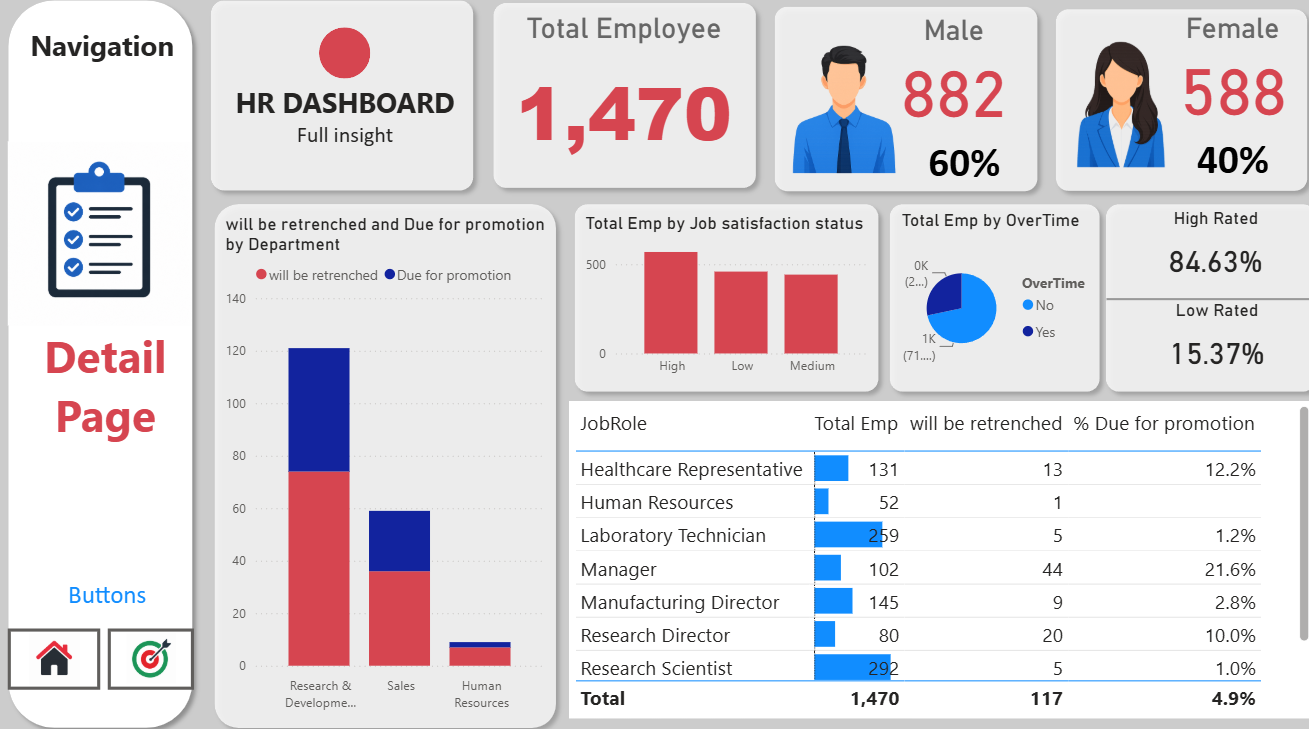

This screenshot's page, from the dashboard's own definition file:
{"tool":"powerbi","page":{"name":"Detail","canvas":[1280,720],"ordinal":1},"visuals":[{"type":"shape","box":[1011.3,8.2,260.7,193.5],"z":0},{"type":"shape","box":[739.6,5.5,271.7,196.2],"z":1000},{"type":"shape","box":[0,0,195.6,720.2],"z":2000},{"type":"shape","box":[195.6,0,271.2,201.5],"z":3000},{"type":"textbox","box":[213.4,84.4,240.7,54.6],"z":4000},{"type":"textbox","box":[213.4,120.3,240.7,39.7],"z":5000},{"type":"shape","box":[308.9,34.7,49.6,49.6],"z":6000},{"type":"card","title":"Male","fields":{"Values":["All Measures.Male"]},"box":[832.9,22,178.4,108.4],"z":7000},{"type":"card","fields":{"Values":["All Measures.% Female"]},"box":[1117,118,148.2,83.7],"z":8000},{"type":"shape","box":[468.1,2.4,271.4,196.6],"z":9000},{"type":"card","title":"Total Employee","fields":{"Values":["All Measures.Total Emp"]},"box":[477.5,19.2,251.1,157.8],"z":10000},{"type":"card","title":"Female","fields":{"Values":["All Measures.Female"]},"box":[1101.9,19.2,178.4,108.4],"z":11000},{"type":"card","fields":{"Values":["All Measures.% Male"]},"box":[858,121.1,148.2,83.7],"z":12000},{"type":"image","box":[974.8,0,216,202.7],"z":13000},{"type":"image","box":[709.4,0,212.3,230.4],"z":14000},{"type":"shape","box":[199.1,196.6,347.5,523.6],"z":15000},{"type":"columnChart","fields":{"Category":["HR Analytics Data.Department"],"Y":["All Measures.will be retrenched","All Measures.Due for promotion"]},"box":[213.5,214.7,319.7,487.4],"z":16000},{"type":"shape","box":[546.5,196.6,311.3,199.1],"z":17000},{"type":"shape","box":[850.5,196.6,220.8,199.1],"z":18000},{"type":"shape","box":[1059.3,196.6,220.8,199.1],"z":19000},{"type":"shape","box":[1068.9,135.1,200.3,324.5],"z":20000},{"type":"columnChart","fields":{"Y":["All Measures.Total Emp"],"Category":["HR Analytics Data.Job satisfaction status"]},"box":[561,213.5,283.5,166.5],"z":21000},{"type":"pieChart","fields":{"Category":["HR Analytics Data.OverTime"],"Y":["All Measures.Total Emp"]},"box":[866.2,211.1,193,171.3],"z":22000},{"type":"tableEx","fields":{"Values":["HR Analytics Data.JobRole","All Measures.Total Emp","All Measures.will be retrenched","All Measures.% Due for promotion"]},"box":[550.1,395.7,719,306.4],"z":23000},{"type":"card","title":"High Rated","fields":{"Values":["All Measures.%High Rated"]},"box":[1083.4,208.7,182.2,82],"z":24000},{"type":"card","title":"Low Rated","fields":{"Values":["All Measures.%Low Rated"]},"box":[1090.6,298,170.1,82],"z":25000},{"type":"image","box":[20.5,620.1,65.1,49.5],"z":25004},{"type":"image","box":[108.6,620.1,77.2,48.3],"z":25005},{"type":"actionButton","box":[8.4,615.3,89.3,59.1],"z":25006},{"type":"actionButton","box":[105,615.3,83.2,59.1],"z":25007},{"type":"textbox","box":[0,562.2,208.7,39.8],"z":25008},{"type":"textbox","box":[9.7,29,179.8,55.5],"z":25009},{"type":"textbox","box":[9.7,317.3,185.8,126.7],"z":25010},{"type":"image","box":[8.4,138.7,177.3,190.6],"z":25011}]}

Visuals, with their boxes in screenshot pixels (x1, y1, x2, y2), scaled from the page's 1280x720 canvas onto the 1309x729 screenshot:
shape: 1034,8,1301,204
shape: 756,6,1034,204
shape: 0,0,200,728
shape: 200,0,477,204
textbox: 218,85,464,141
textbox: 218,122,464,162
shape: 316,35,367,85
"Male" card: 852,22,1034,132
card - All Measures.% Female: 1142,119,1294,204
shape: 479,2,756,201
"Total Employee" card: 488,19,745,179
"Female" card: 1127,19,1308,129
card - All Measures.% Male: 877,123,1029,207
image: 997,0,1218,205
image: 725,0,943,233
shape: 204,199,559,728
columnChart - HR Analytics Data.Department x All Measures.will be retrenched: 218,217,545,711
shape: 559,199,877,401
shape: 870,199,1096,401
shape: 1083,199,1308,401
shape: 1093,137,1298,465
columnChart - All Measures.Total Emp x HR Analytics Data.Job satisfaction status: 574,216,864,385
pieChart - HR Analytics Data.OverTime x All Measures.Total Emp: 886,214,1083,387
tableEx - HR Analytics Data.JobRole x All Measures.Total Emp: 563,401,1298,711
"High Rated" card: 1108,211,1294,294
"Low Rated" card: 1115,302,1289,385
image: 21,628,88,678
image: 111,628,190,677
actionButton: 9,623,100,683
actionButton: 107,623,192,683
textbox: 0,569,213,610
textbox: 10,29,194,86
textbox: 10,321,200,450
image: 9,140,190,333
